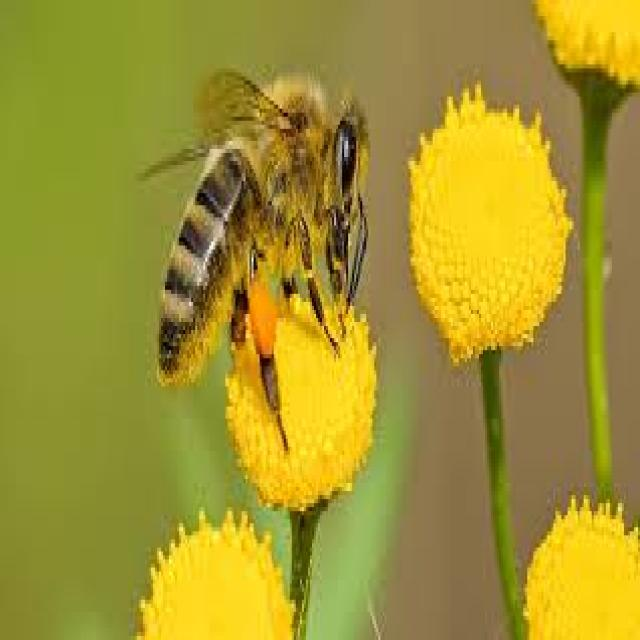Bees: (134, 61, 372, 460)
